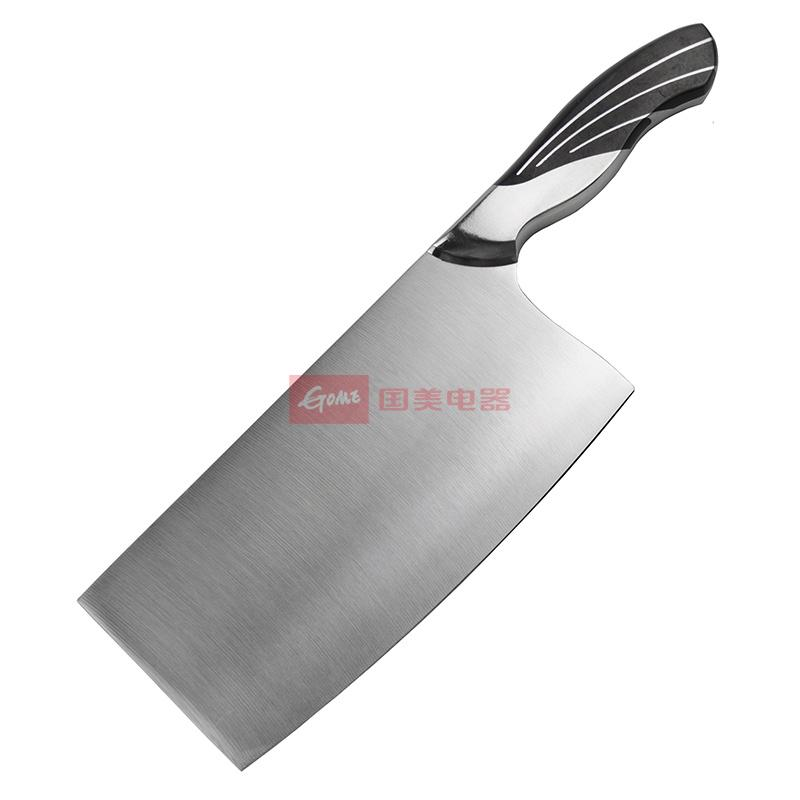knief: (116, 25, 740, 733)
